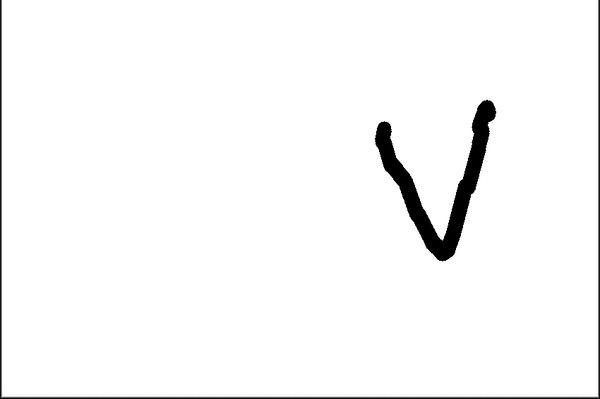V: (372, 93, 522, 261)
